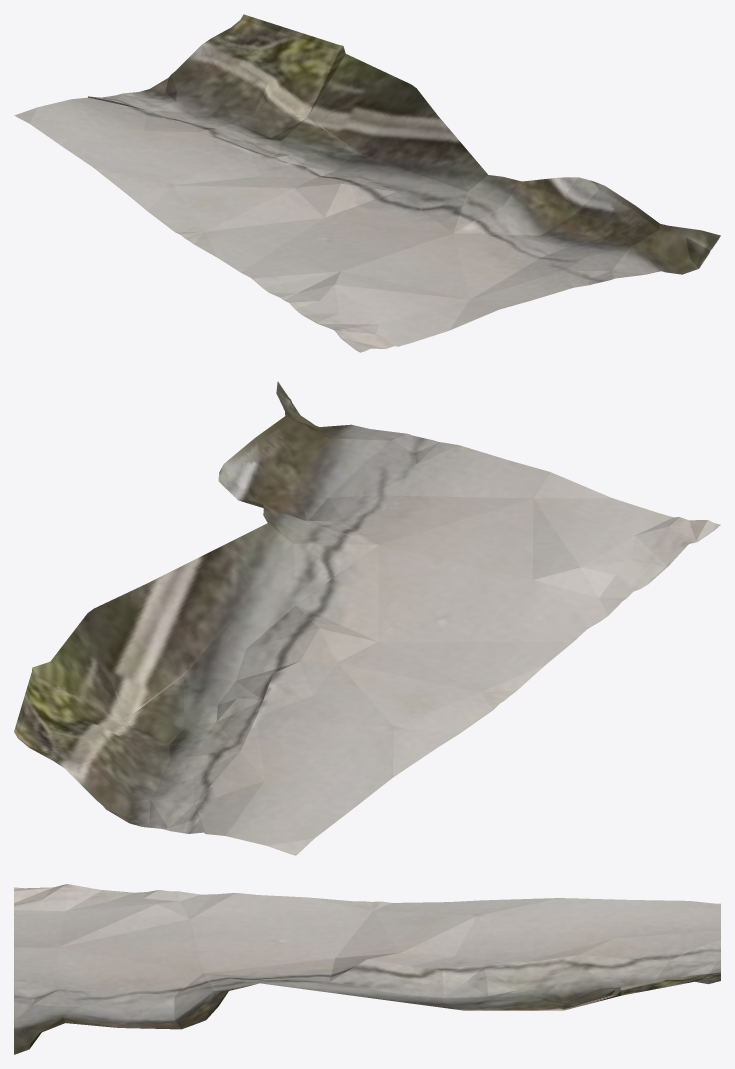
The picture shows the model from 3 angles, top to bottom: view 1: azimuth 30°, elevation 25°; view 2: azimuth 150°, elevation 25°; view 3: azimuth 270°, elevation 25°; orthographic projection. The views are drawn at different scales.
Bounding box in the file's own units: 3.55 × 0.516 × 5.9.
Materials: 1 (1 with a texture image).
